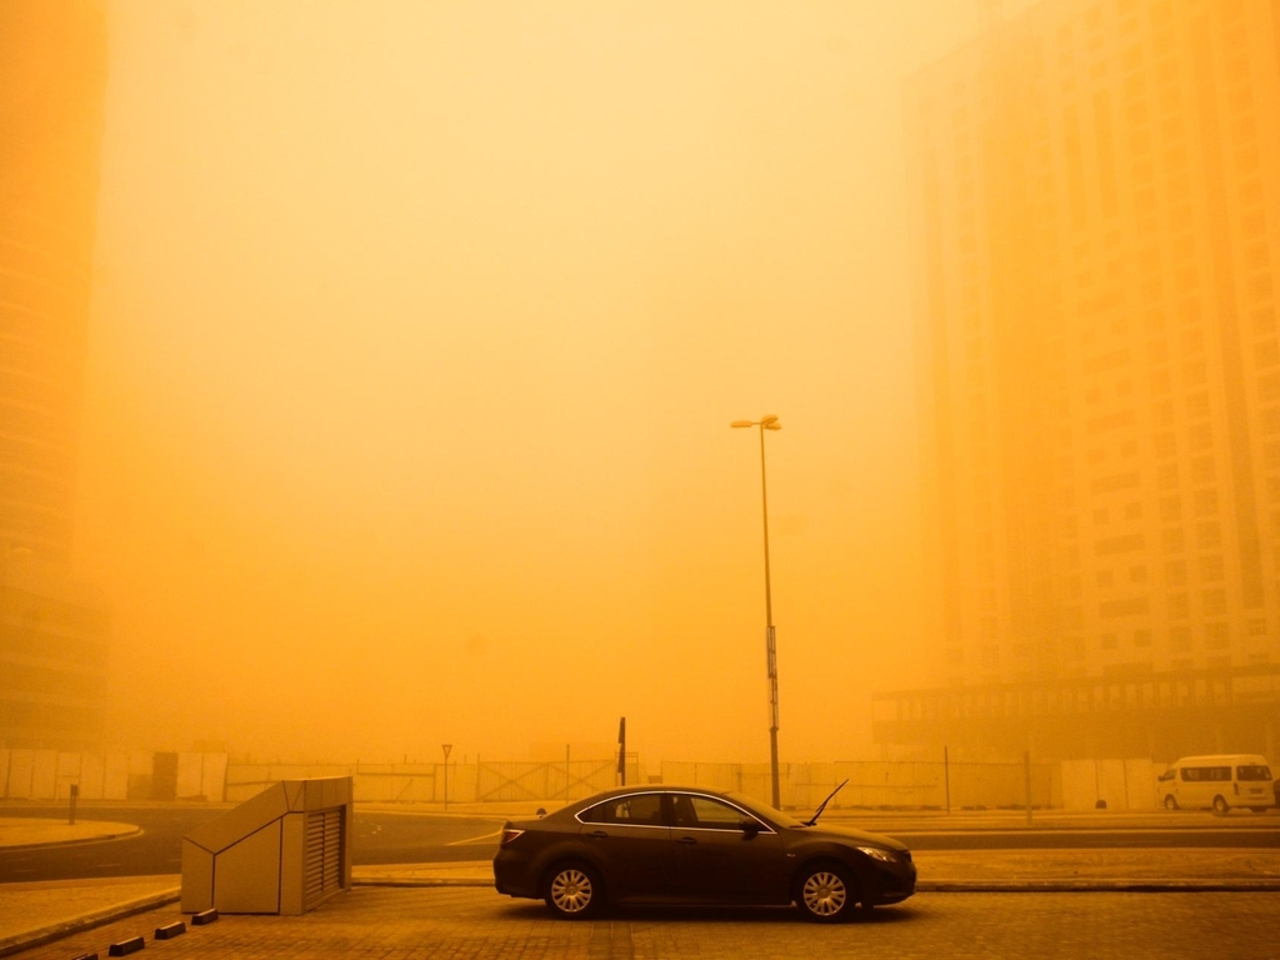bus: (1159, 744, 1271, 820)
car: (486, 786, 917, 927)
